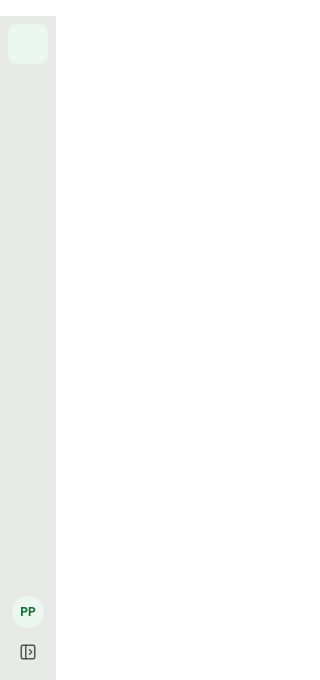
Test case: AppSidebar › keeps notifications and the account menu in the sidebar footer
Click the button named "Expand sidebar": (28, 652) [8, 632, 48, 672]
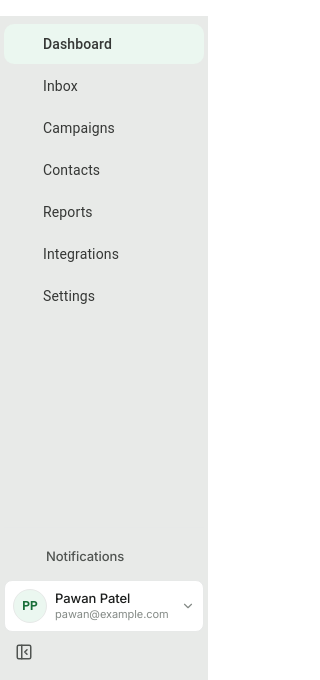
Now the button with test id "sidebar-notifications" reads "Notifications", box [4, 536, 204, 576]
Now the button with aria-label "Open profile menu" shows "Pawan Patel", box [4, 580, 204, 632]
Now the button with aria-label "Open profile menu" shows "pawan@example.com", box [4, 580, 204, 632]
